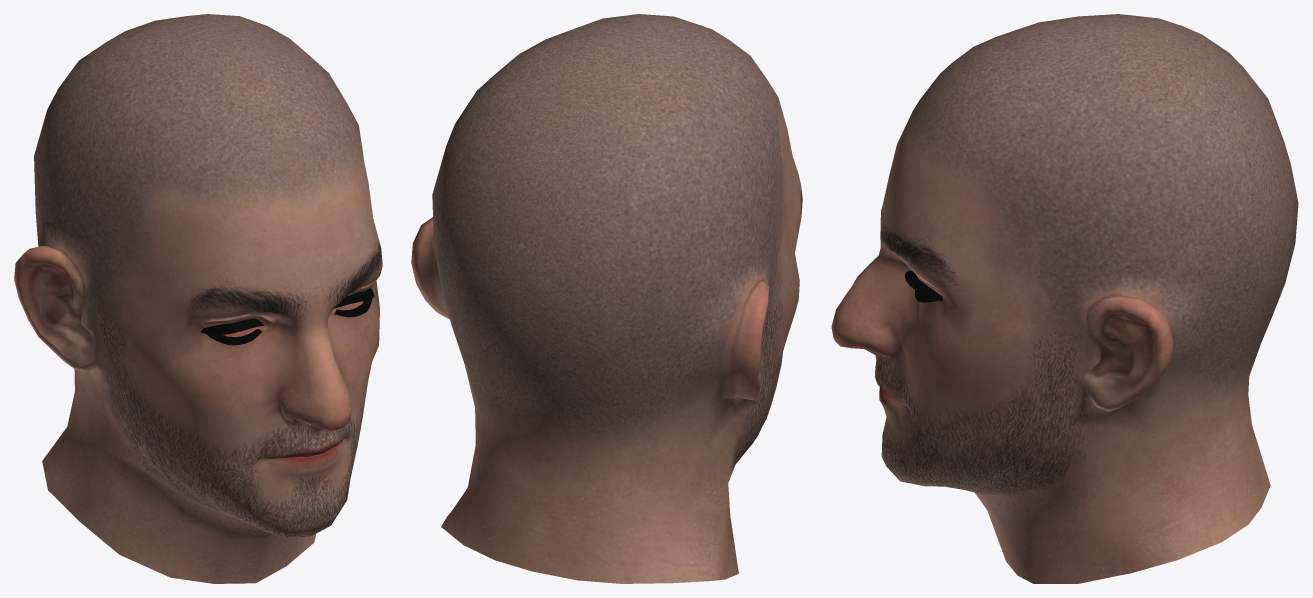
Rendered from SurvivorMale_Head_02_LOD0.glb.
3 renders of one model, left to right at view 1: azimuth 30°, elevation 25°; view 2: azimuth 150°, elevation 25°; view 3: azimuth 270°, elevation 25°, orthographic. The views are drawn at different scales.
Visible parts, largest first — view 1: Hoodie; view 2: Hoodie; view 3: Hoodie.
Boxes of the visible parts, bbox=[...] form: Hoodie: bbox=[14, 14, 382, 583]; Hoodie: bbox=[411, 14, 802, 583]; Hoodie: bbox=[831, 14, 1298, 583].
Bounding box in the file's own units: 0.192 × 0.2885 × 0.2296.
1 material, 1 textured.
